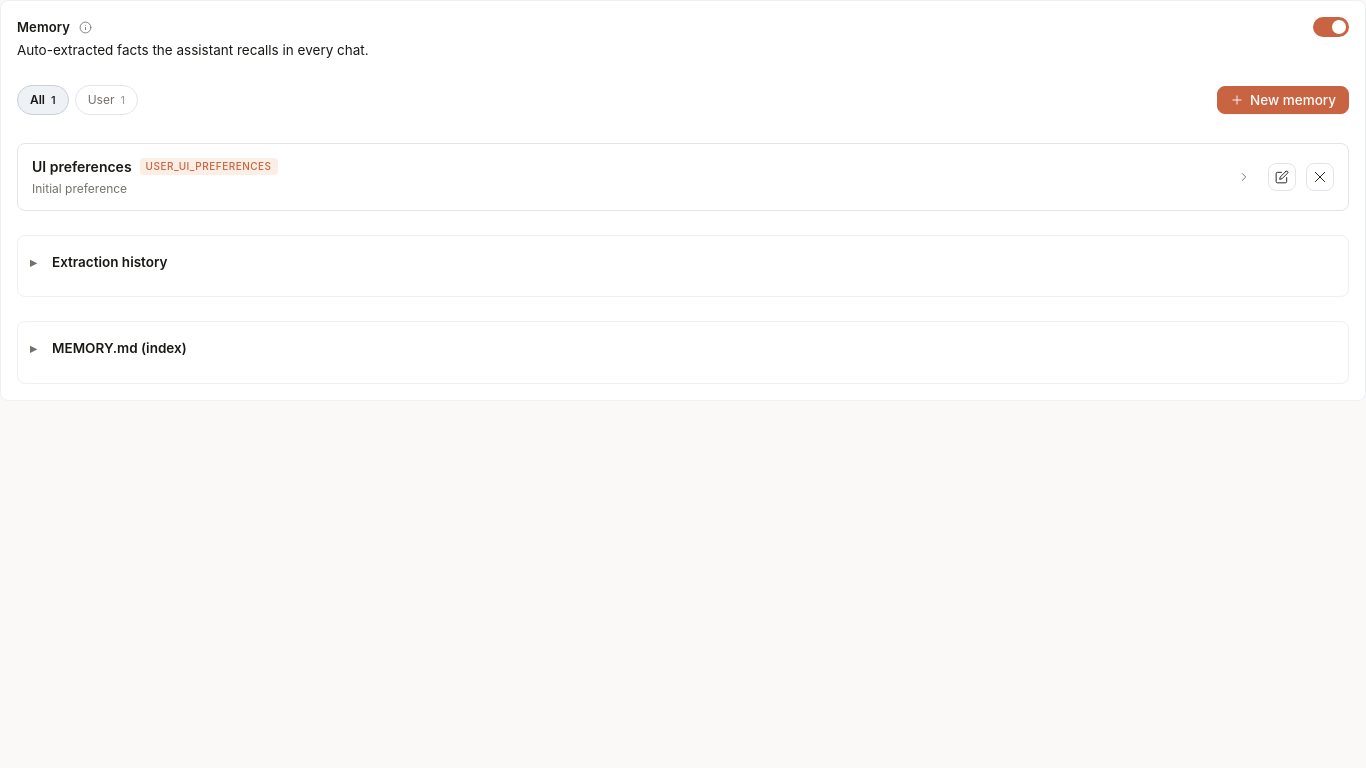
Test case: MemorySection › loads preview, edits an entry, and refreshes the saved content
Click the button titled "Preview": (1244, 177) [1230,163,1258,191]
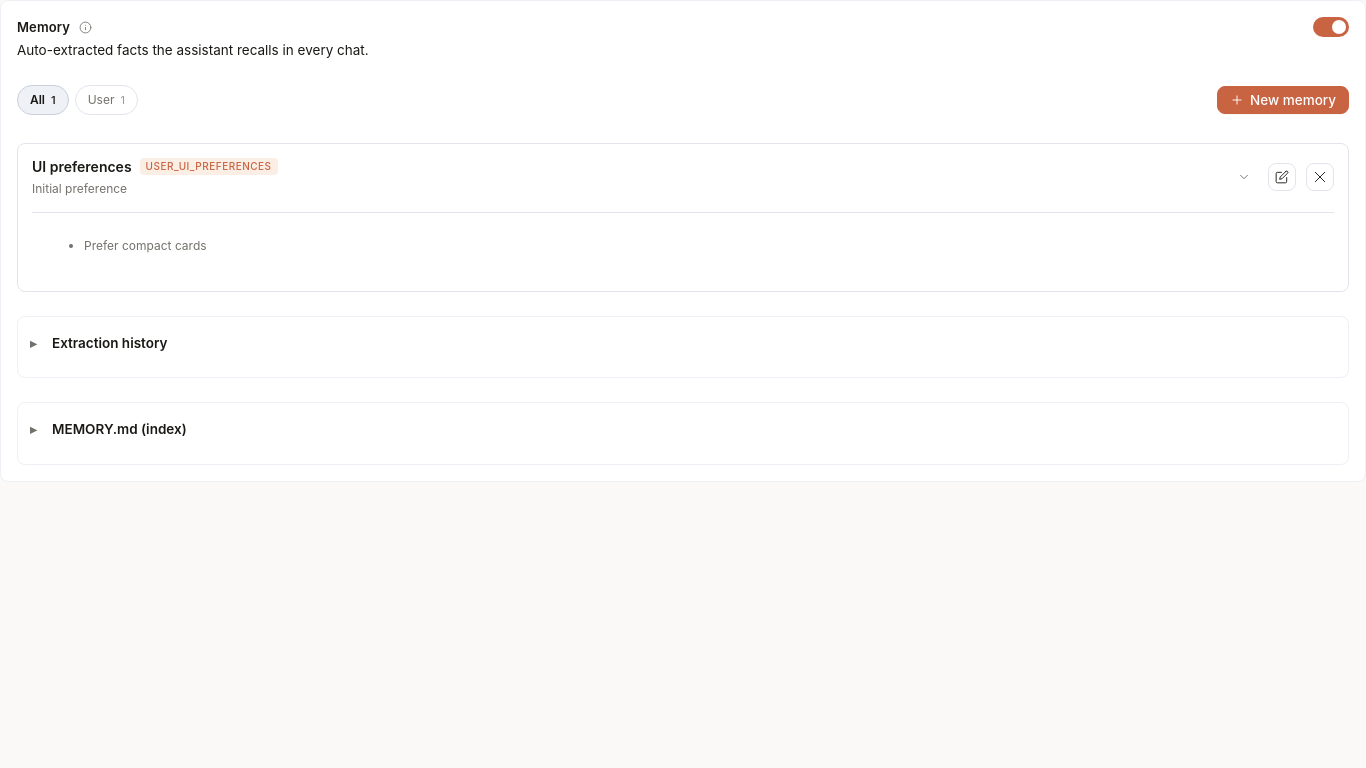
Expected: the list item "Prefer compact cards" is shown, [84,238,207,253]
Click the button titled "Edit": (1282, 177) [1268,163,1296,191]
(page scrolled)
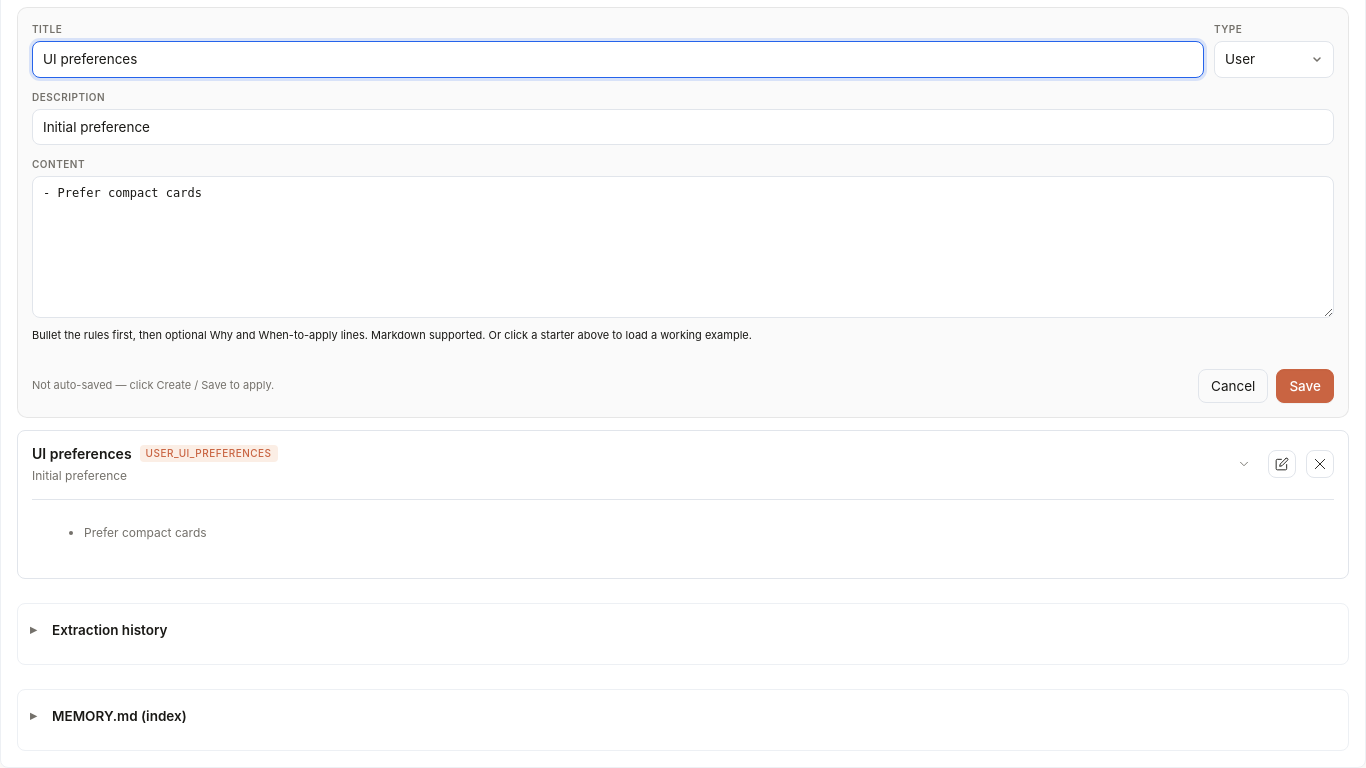
Replace the text in the field showing "Initial preference" below "Description" with "Updated preference": (683, 127) [32,108,1334,145]
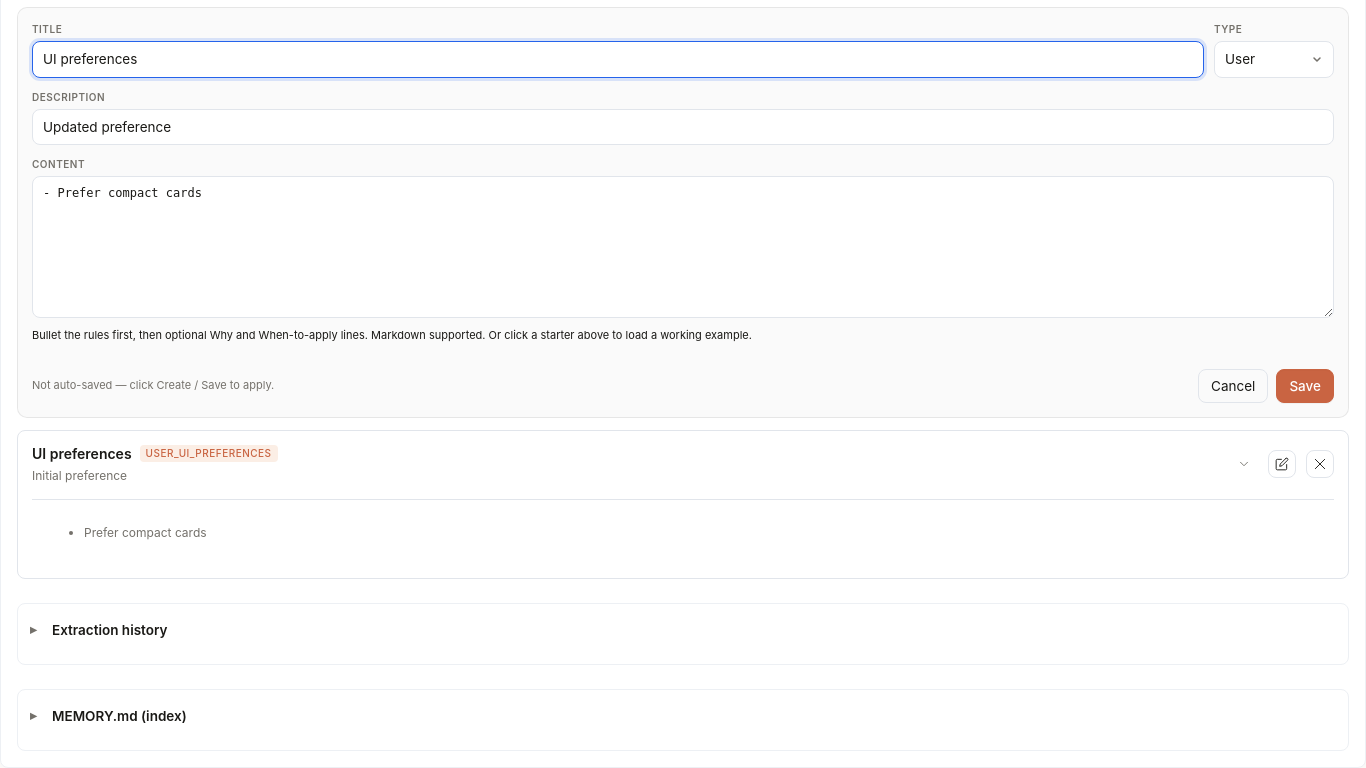
Replace the text in the text box showing "- Prefer compact cards" with "- Prefer spacious layouts": (683, 247) [32,176,1334,318]
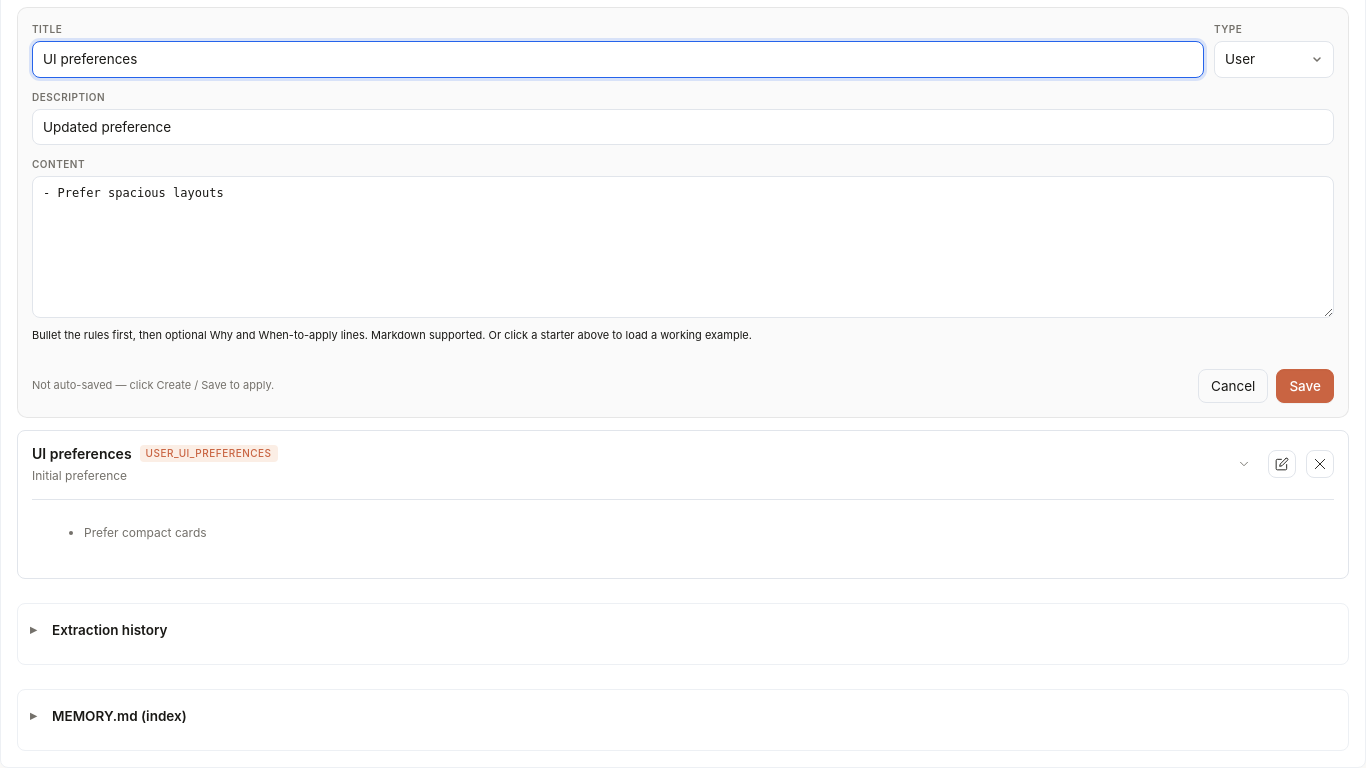
Click the button "Save": (1305, 386) [1276,368,1334,403]
(page scrolled)
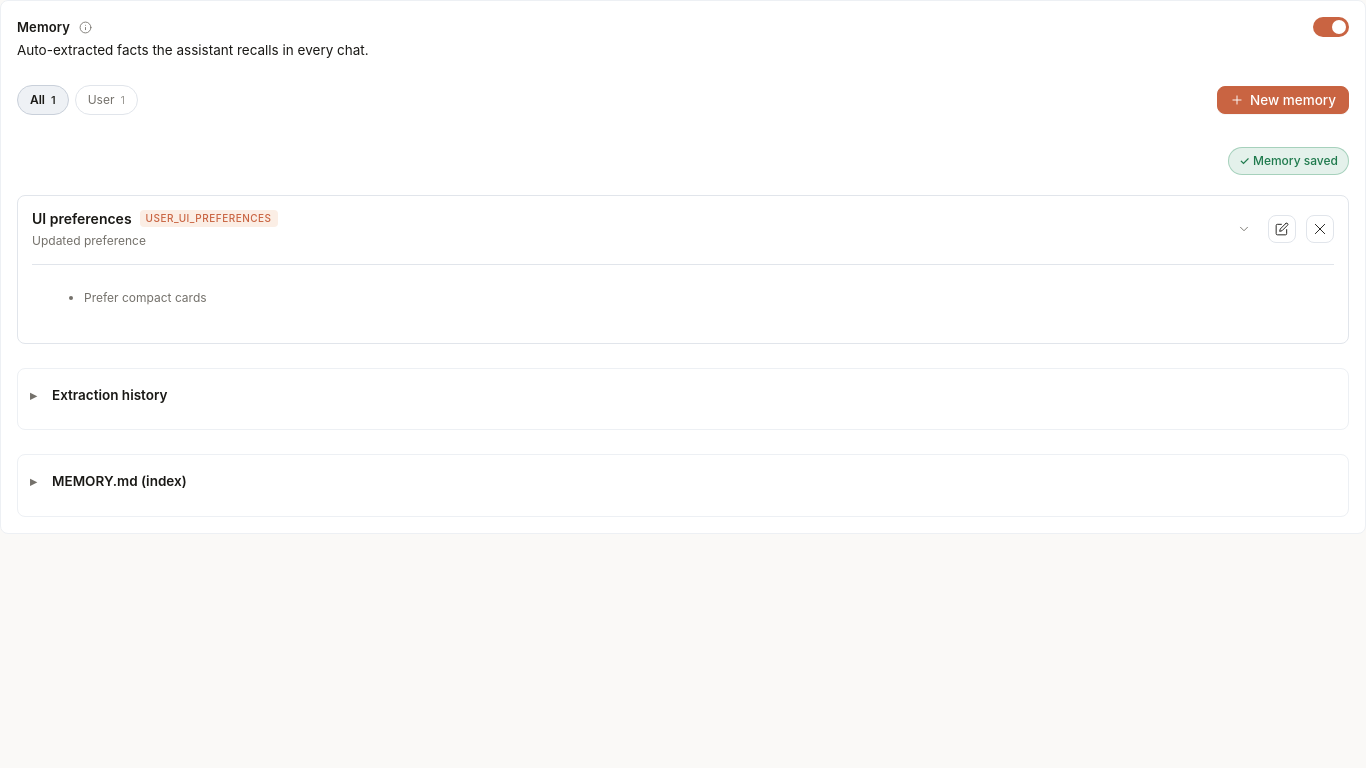
Expected: the text "✓ Memory saved" is shown, [1228,147,1349,175]
Expected: the text "Updated preference" is shown, [32,233,146,248]
